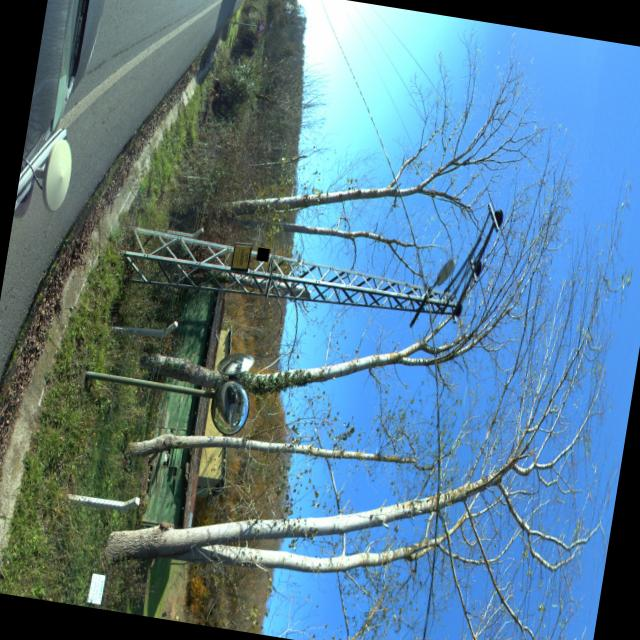Utility Pole Information Plate: (255, 249, 269, 262)
